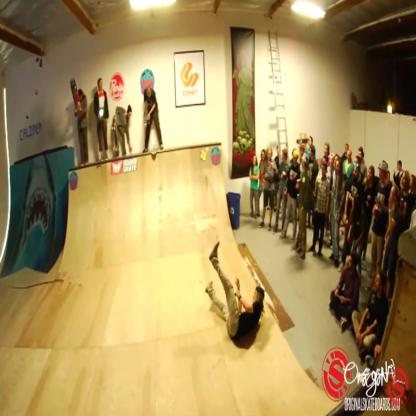Fall_Down: (203, 236, 267, 347)
